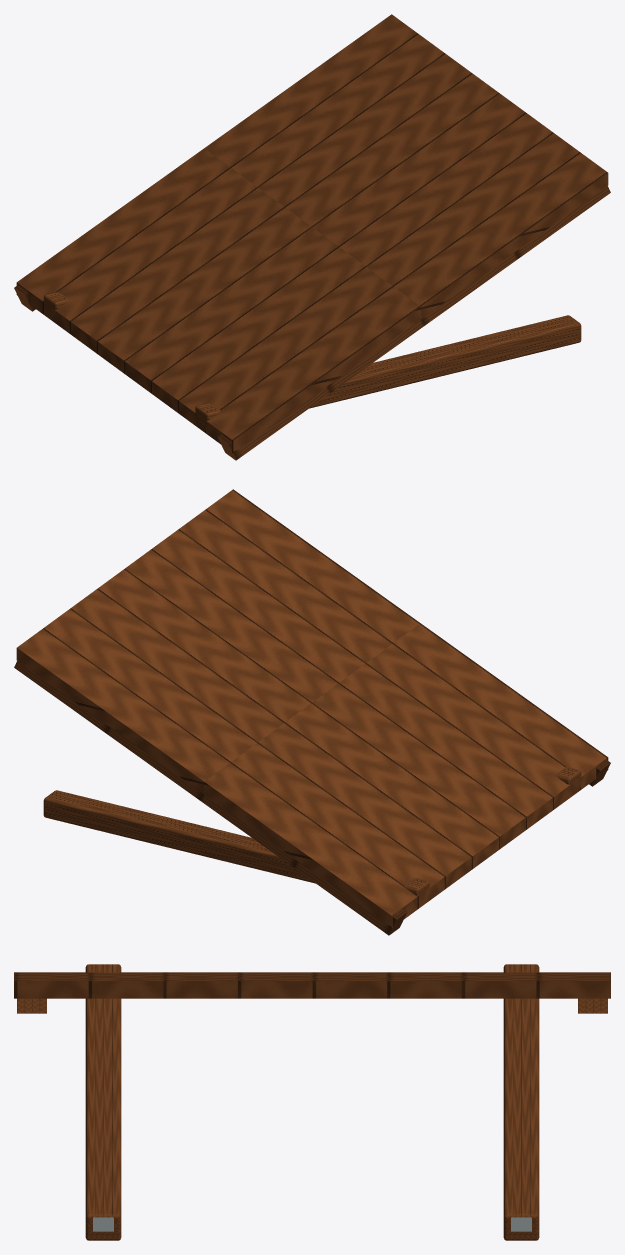
File: modular-survival-base-builder-roof-shed-slope-reinforc-3d67fa64__24307.glb
3 renders of one model, top to bottom at view 1: azimuth 30°, elevation 25°; view 2: azimuth 150°, elevation 25°; view 3: azimuth 270°, elevation 25°, orthographic. The views are drawn at different scales.
Visible parts, largest first — view 1: roof-shed-slope-reinforced; view 2: roof-shed-slope-reinforced; view 3: roof-shed-slope-reinforced.
Boxes of the visible parts, left/top/right/bottom form: roof-shed-slope-reinforced: left=14, top=14, right=610, bottom=460; roof-shed-slope-reinforced: left=14, top=489, right=610, bottom=935; roof-shed-slope-reinforced: left=14, top=964, right=610, bottom=1240.
Bounding box in the file's own units: 2.04 × 1.01 × 2.
Materials: 2 (1 with a texture image).
